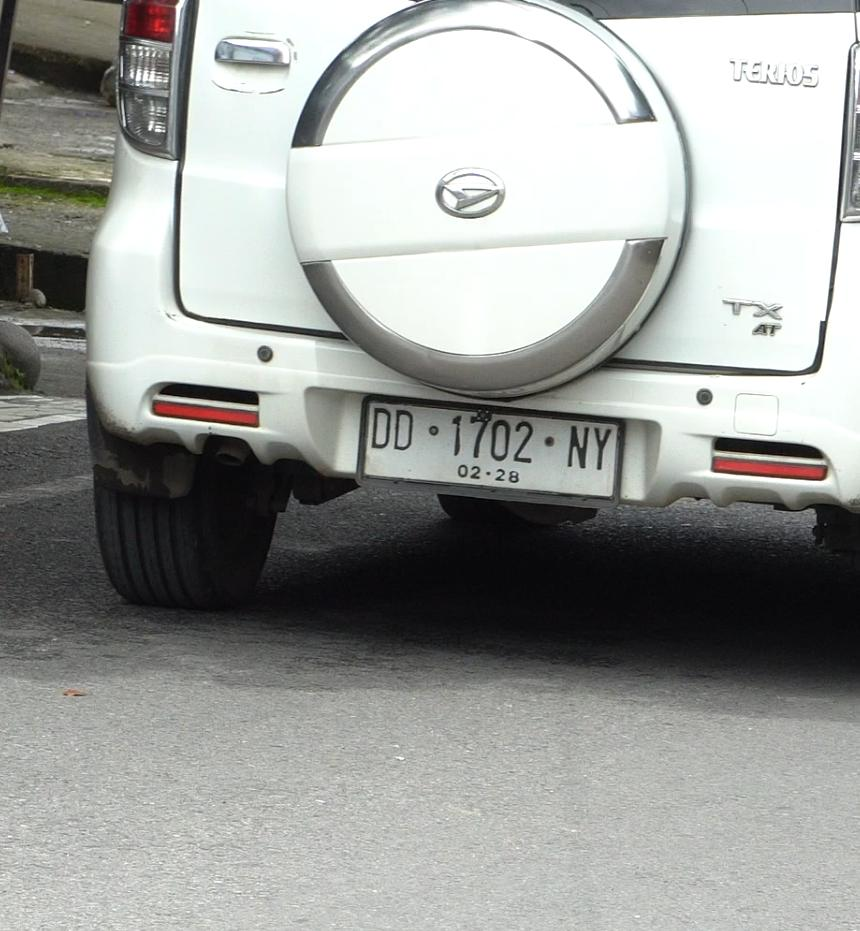number-plate: (348, 389, 637, 508)
